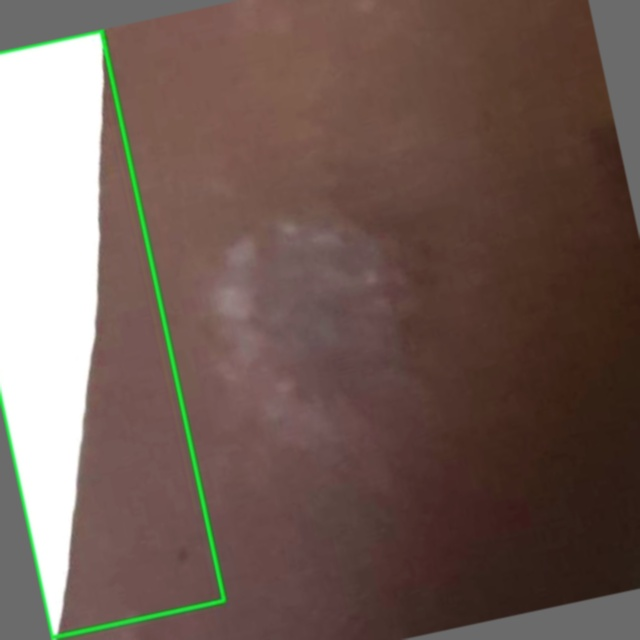Contact Dermatitis: (0, 30, 223, 637)
